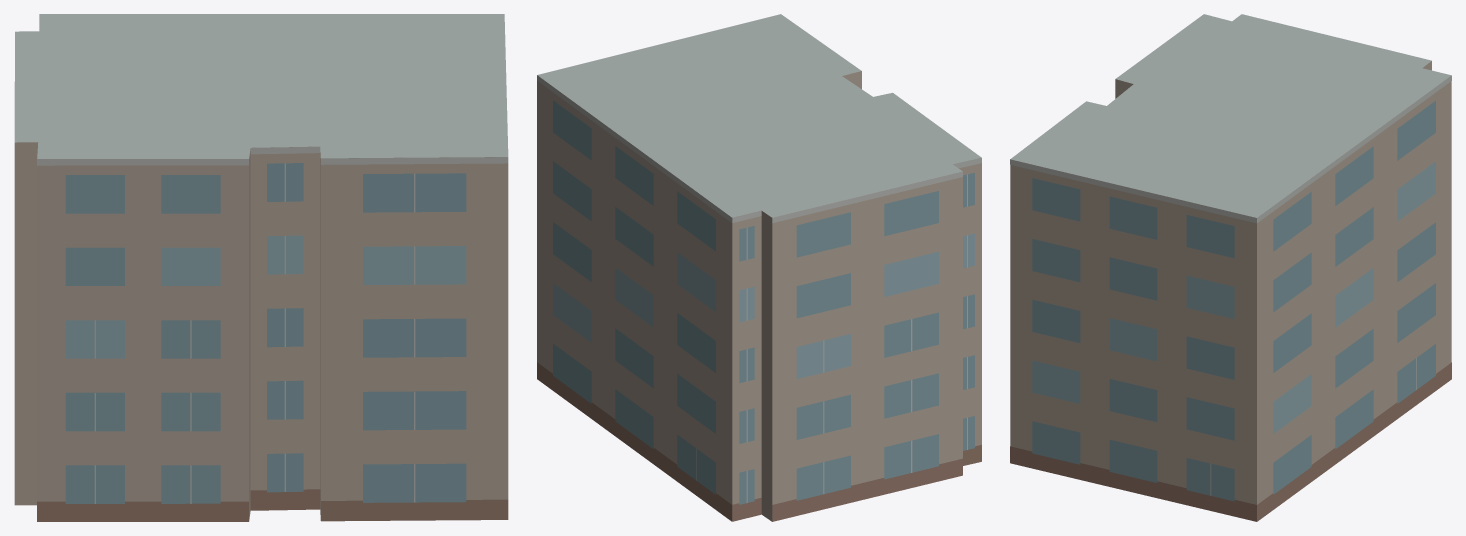
The model's file is survey-upis-32657408.glb.
3 views of the same model, side by side, from view 1: azimuth 30°, elevation 25°; view 2: azimuth 150°, elevation 25°; view 3: azimuth 270°, elevation 25° (orthographic). The views are drawn at different scales.
Visible parts, largest first — view 1: survey-upis-32657408.tmp; view 2: survey-upis-32657408.tmp; view 3: survey-upis-32657408.tmp.
Part boxes in pixels (left/top/right/bottom): survey-upis-32657408.tmp: left=14, top=14, right=508, bottom=521; survey-upis-32657408.tmp: left=537, top=14, right=981, bottom=521; survey-upis-32657408.tmp: left=1010, top=14, right=1451, bottom=521.
Bounding box in the file's own units: 19.59 × 13.6 × 17.92.
